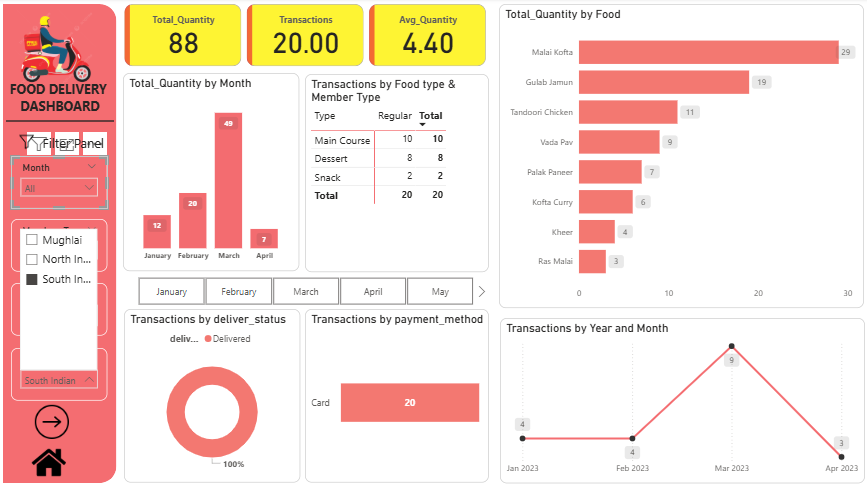

Layout of this report page (visuals, bound fields, positions):
{"tool":"powerbi","page":{"name":"Page 1","canvas":[1280,720],"ordinal":0},"visuals":[{"type":"shape","box":[8.1,8.1,166.3,701.2],"z":0},{"type":"image","box":[7.9,9,158.3,132.3],"z":1000},{"type":"textbox","box":[12.8,116.3,158.1,70.9],"z":2000},{"type":"shape","box":[13.2,165.4,158,29.3],"z":3000},{"type":"cardVisual","fields":{"Data":["Sales Data.Total_Quantity","Sales Data.Transactions","Sales Data.Avg_Quantity"]},"box":[181.4,9.3,539.5,103.5],"z":4000},{"type":"clusteredColumnChart","fields":{"Y":["Sales Data.Total_Quantity"],"Category":["Sales Data.orderDate.Variation.Date Hierarchy.Month"]},"box":[184.9,110.5,258.1,289.5],"z":5000},{"type":"pivotTable","title":"Transactions by Food type & Member Type","fields":{"Rows":["Food_Details.Type"],"Columns":["Customer Details.member_Type"],"Values":["Sales Data.Transactions"]},"box":[451.5,111.1,269,289.5],"z":6000},{"type":"donutChart","fields":{"Category":["Sales Data.deliver_status"],"Y":["Sales Data.Transactions"]},"box":[185.2,455.6,258,253.9],"z":7000},{"type":"funnel","fields":{"Category":["Sales Data.payment_method"],"Y":["Sales Data.Transactions"]},"box":[451.5,455.6,269,253.9],"z":8000},{"type":"clusteredBarChart","fields":{"Y":["Sales Data.Total_Quantity"],"Category":["Food_Details.Food"]},"box":[734.9,9.3,533.7,445.4],"z":9000},{"type":"lineChart","fields":{"Y":["Sales Data.Transactions"],"Category":["Sales Data.orderDate.Variation.Date Hierarchy.Year","Sales Data.orderDate.Variation.Date Hierarchy.Month"]},"box":[735.5,467.9,533.8,241.5],"z":10000},{"type":"slicer","fields":{"Values":["Sales Data.orderDate.Variation.Date Hierarchy.Month"]},"box":[20.6,231.9,141.3,76.8],"z":11000},{"type":"slicer","fields":{"Values":["Customer Details.member_Type"]},"box":[20.6,323.8,141.3,76.8],"z":12000},{"type":"slicer","fields":{"Values":["Sales Data.payment_method"]},"box":[20.6,417.2,141.3,76.8],"z":13000},{"type":"slicer","fields":{"Values":["Resturant_Details.Resturant_type"]},"box":[20.6,511.8,141.3,76.8],"z":14000},{"type":"slicer","fields":{"Values":["Sales Data.orderDate.Variation.Date Hierarchy.Month"]},"box":[180.9,402.5,539.3,53.1],"z":15000},{"type":"image","box":[24.7,194.9,37,31.6],"z":16000},{"type":"textbox","box":[61.7,194.9,123.5,37],"z":17000},{"type":"image","box":[43.9,649.1,64.5,60.4],"z":18000},{"type":"image","box":[46.7,587.3,67.2,67.2],"z":19000}]}

Visuals, with their boxes in screenshot pixels (x1, y1, x2, y2), scaled from the page's 1280x720 canvas onto the 867x487 screenshot:
shape: {"left": 5, "top": 5, "right": 118, "bottom": 480}
image: {"left": 5, "top": 6, "right": 113, "bottom": 96}
textbox: {"left": 9, "top": 79, "right": 116, "bottom": 127}
shape: {"left": 9, "top": 112, "right": 116, "bottom": 132}
cardVisual - Sales Data.Total_Quantity x Sales Data.Transactions: {"left": 123, "top": 6, "right": 488, "bottom": 76}
clusteredColumnChart - Sales Data.Total_Quantity x Sales Data.orderDate.Variation.Date Hierarchy.Month: {"left": 125, "top": 75, "right": 300, "bottom": 271}
"Transactions by Food type & Member Type" pivotTable: {"left": 306, "top": 75, "right": 488, "bottom": 271}
donutChart - Sales Data.deliver_status x Sales Data.Transactions: {"left": 125, "top": 308, "right": 300, "bottom": 480}
funnel - Sales Data.payment_method x Sales Data.Transactions: {"left": 306, "top": 308, "right": 488, "bottom": 480}
clusteredBarChart - Sales Data.Total_Quantity x Food_Details.Food: {"left": 498, "top": 6, "right": 859, "bottom": 308}
lineChart - Sales Data.Transactions x Sales Data.orderDate.Variation.Date Hierarchy.Year: {"left": 498, "top": 316, "right": 860, "bottom": 480}
slicer - Sales Data.orderDate.Variation.Date Hierarchy.Month: {"left": 14, "top": 157, "right": 110, "bottom": 209}
slicer - Customer Details.member_Type: {"left": 14, "top": 219, "right": 110, "bottom": 271}
slicer - Sales Data.payment_method: {"left": 14, "top": 282, "right": 110, "bottom": 334}
slicer - Resturant_Details.Resturant_type: {"left": 14, "top": 346, "right": 110, "bottom": 398}
slicer - Sales Data.orderDate.Variation.Date Hierarchy.Month: {"left": 123, "top": 272, "right": 488, "bottom": 308}
image: {"left": 17, "top": 132, "right": 42, "bottom": 153}
textbox: {"left": 42, "top": 132, "right": 125, "bottom": 157}
image: {"left": 30, "top": 439, "right": 73, "bottom": 480}
image: {"left": 32, "top": 397, "right": 77, "bottom": 443}
